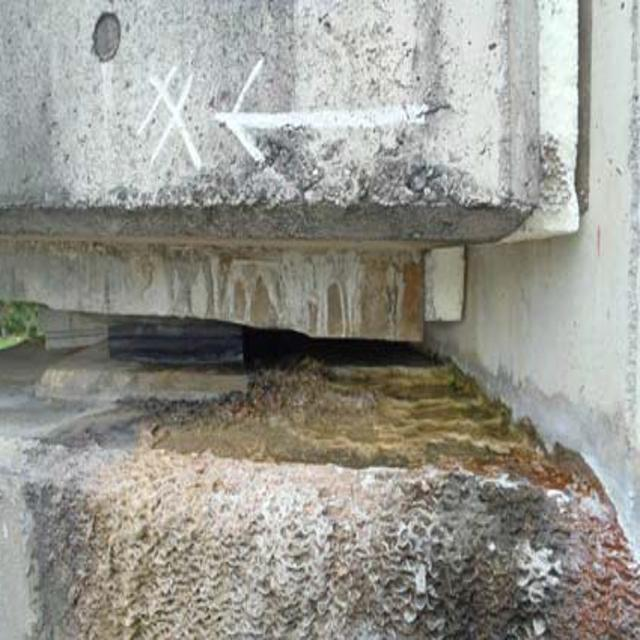leakage: (249, 333, 594, 631)
